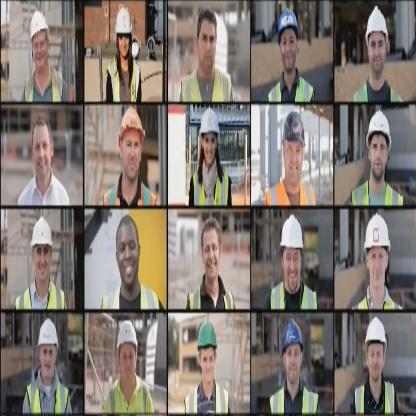helmet: (351, 0, 389, 83), (110, 102, 143, 191), (270, 213, 304, 291), (356, 310, 388, 392), (357, 216, 393, 285), (266, 5, 303, 72), (108, 316, 141, 388), (359, 100, 390, 176), (25, 216, 56, 287), (276, 313, 305, 381), (191, 320, 218, 390), (191, 104, 221, 165), (22, 11, 53, 68), (104, 6, 134, 64), (31, 318, 58, 378)
